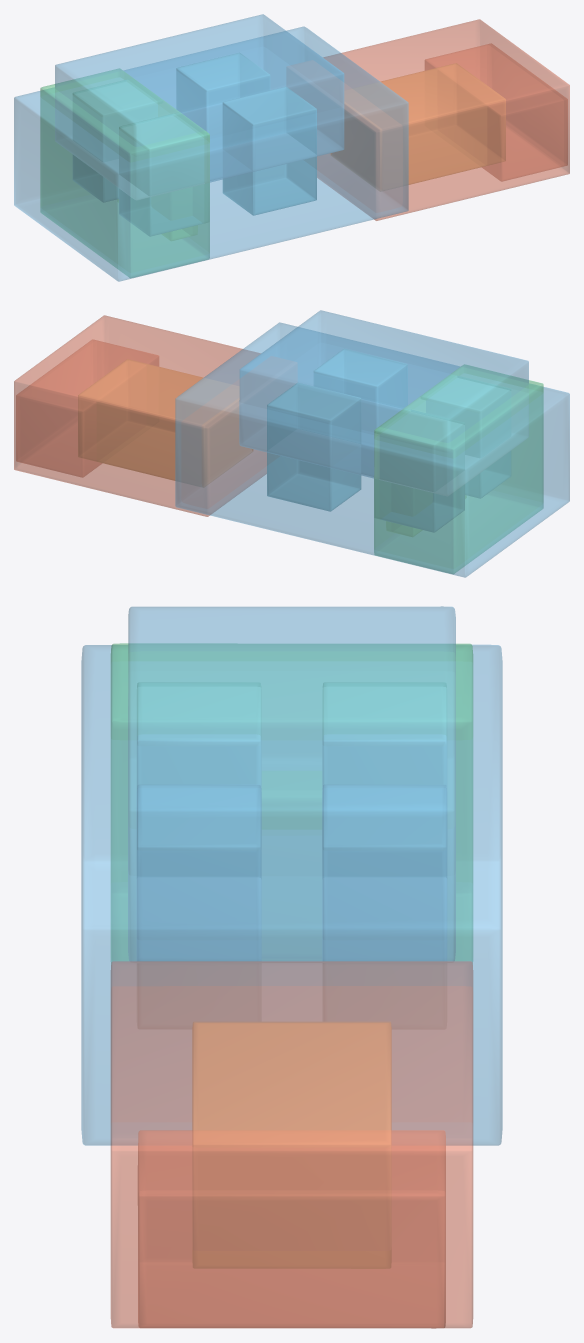
Rendered from envelopes.glb.
3 views of the same model, one above another, from view 1: azimuth 30°, elevation 25°; view 2: azimuth 150°, elevation 25°; view 3: azimuth 270°, elevation 25° (orthographic). The views are drawn at different scales.
Parts seen in each view (by area): view 1: CABIN_ENVELOPE, ENGINE_BAY, CARGO_ENVELOPE, OCCUPANT_SPACE_-0.34056000000000003, ENGINE_BAY_CORE, OCCUPANT_SPACE_0.34056000000000003; view 2: CABIN_ENVELOPE, ENGINE_BAY, CARGO_ENVELOPE, OCCUPANT_SPACE_0.34056000000000003, ENGINE_BAY_CORE, OCCUPANT_SPACE_-0.34056000000000003; view 3: CABIN_ENVELOPE, ENGINE_BAY, ENGINE_BAY_CORE, CARGO_ENVELOPE, OCCUPANT_SPACE_0.34056000000000003, OCCUPANT_SPACE_-0.34056000000000003.
Boxes of the visible parts, left/top/right/bottom form: CABIN_ENVELOPE: left=14, top=14, right=408, bottom=281; ENGINE_BAY: left=317, top=19, right=569, bottom=220; CARGO_ENVELOPE: left=40, top=68, right=209, bottom=277; OCCUPANT_SPACE_-0.34056000000000003: left=119, top=86, right=316, bottom=236; ENGINE_BAY_CORE: left=331, top=63, right=505, bottom=191; OCCUPANT_SPACE_0.34056000000000003: left=73, top=52, right=270, bottom=202; CABIN_ENVELOPE: left=175, top=310, right=569, bottom=577; ENGINE_BAY: left=14, top=315, right=266, bottom=516; CARGO_ENVELOPE: left=374, top=364, right=543, bottom=573; OCCUPANT_SPACE_0.34056000000000003: left=267, top=382, right=464, bottom=532; ENGINE_BAY_CORE: left=78, top=359, right=252, bottom=487; OCCUPANT_SPACE_-0.34056000000000003: left=313, top=348, right=510, bottom=498; CABIN_ENVELOPE: left=81, top=606, right=502, bottom=1145; ENGINE_BAY: left=110, top=961, right=473, bottom=1328; ENGINE_BAY_CORE: left=192, top=1022, right=391, bottom=1268; CARGO_ENVELOPE: left=110, top=643, right=473, bottom=961; OCCUPANT_SPACE_0.34056000000000003: left=322, top=682, right=446, bottom=960; OCCUPANT_SPACE_-0.34056000000000003: left=137, top=682, right=261, bottom=960.
Bounding box in the file's own units: 3.94 × 1.24 × 1.54.
